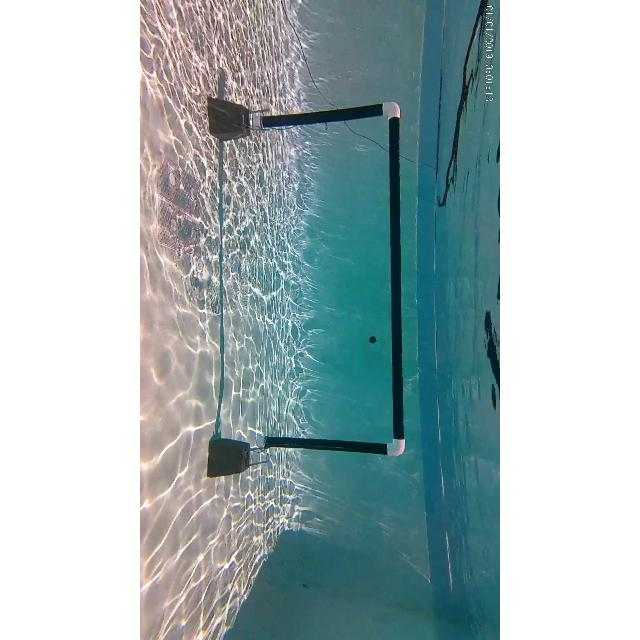prequal gate: (247, 96, 406, 458)
prequal gate leg l: (203, 90, 399, 142)
prequal gate leg r: (207, 426, 409, 484)
